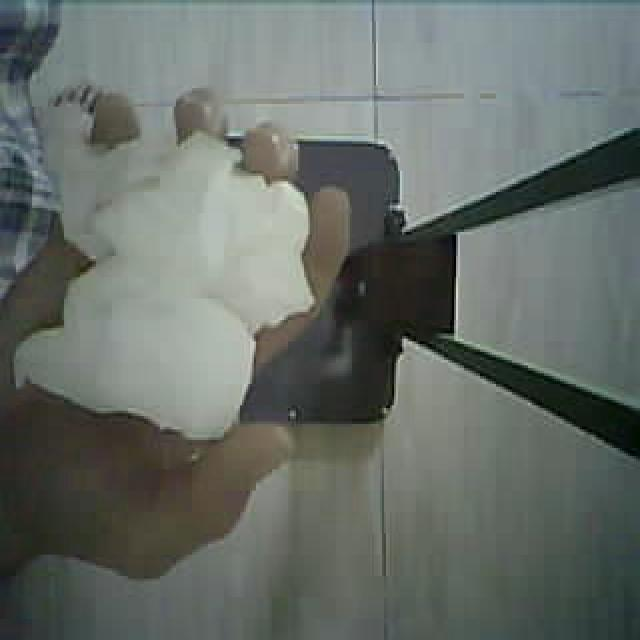Paper: (21, 86, 332, 450)
